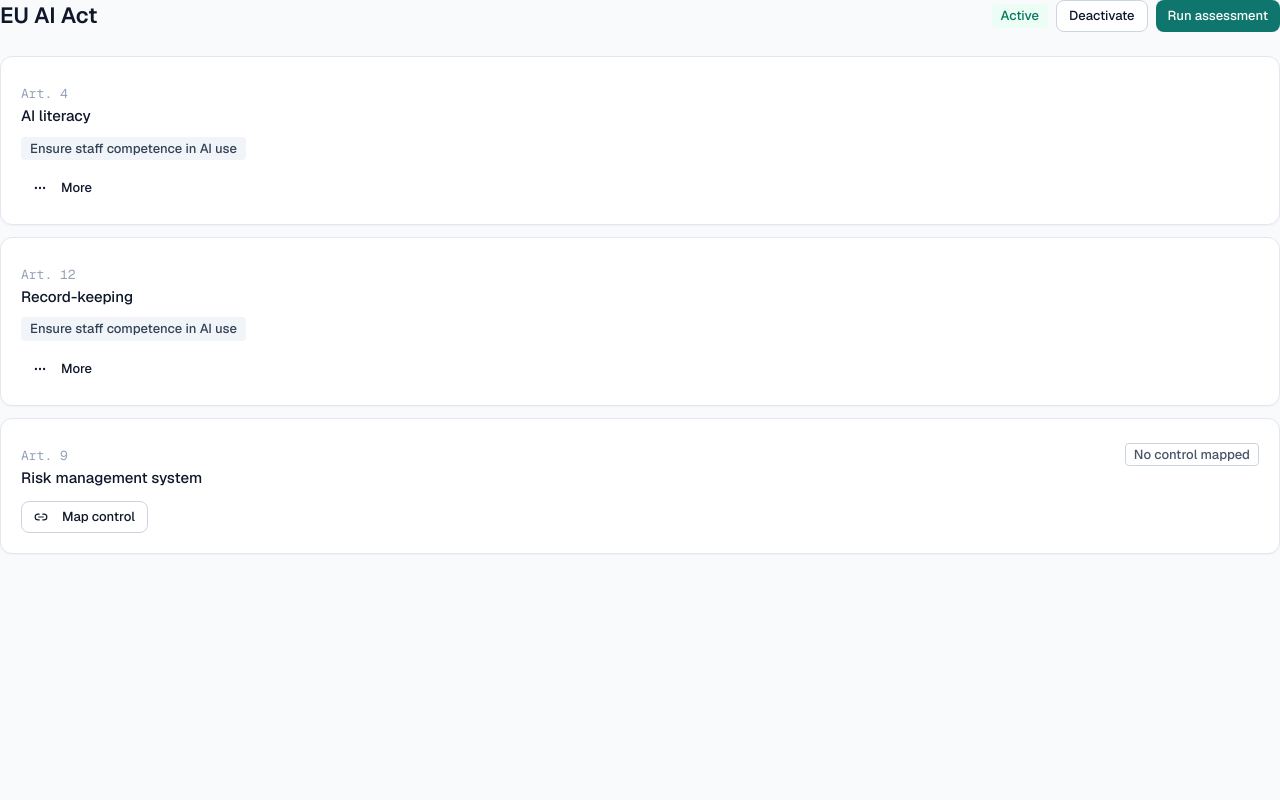
Test: framework requirement states › names the missing condition instead of asking the reader to find it
Expected: the text "AI literacy" is shown, [21, 104, 91, 128]
Click the button "Run assessment". click: (1218, 16)
box: [1156, 0, 1279, 32]
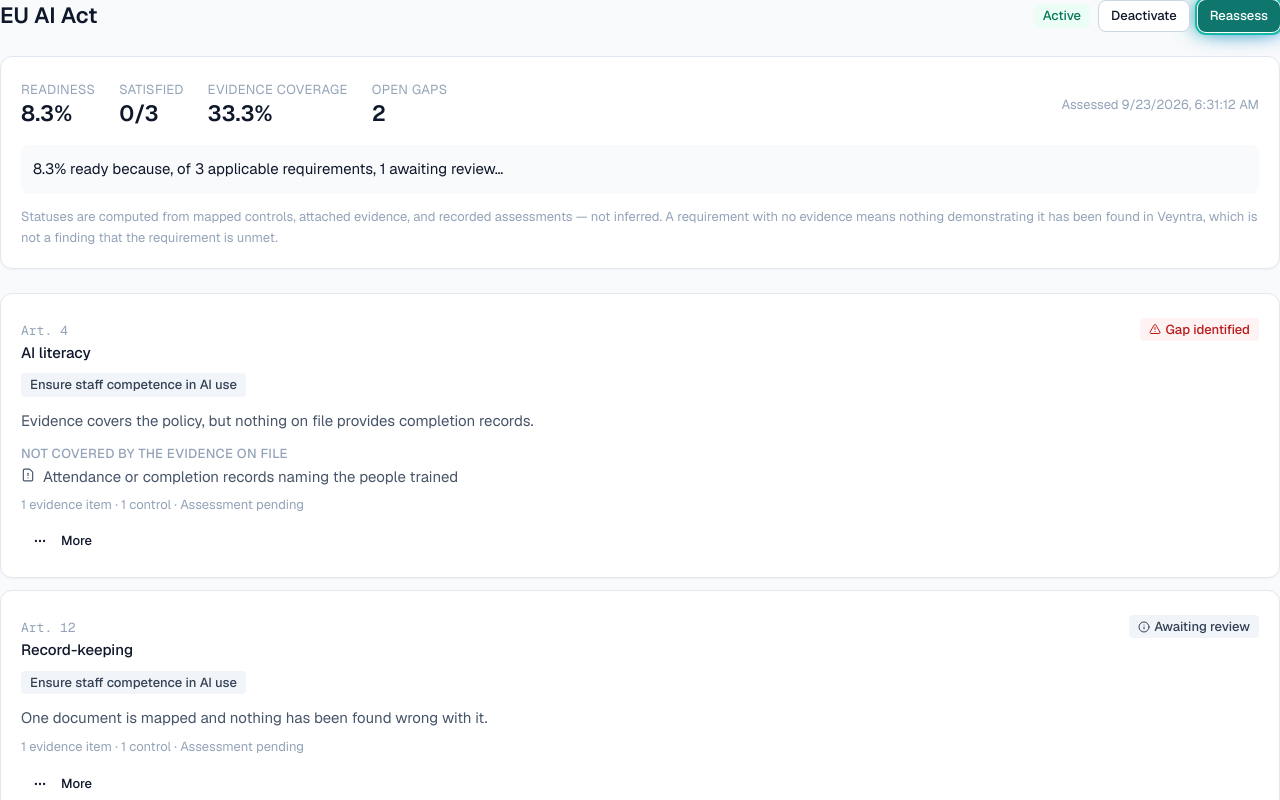
Expected: the text "Not covered by the evidence on file" is shown, [21, 445, 288, 462]
Expected: the text "Attendance or completion records naming the people trained" is shown, [43, 466, 458, 488]
